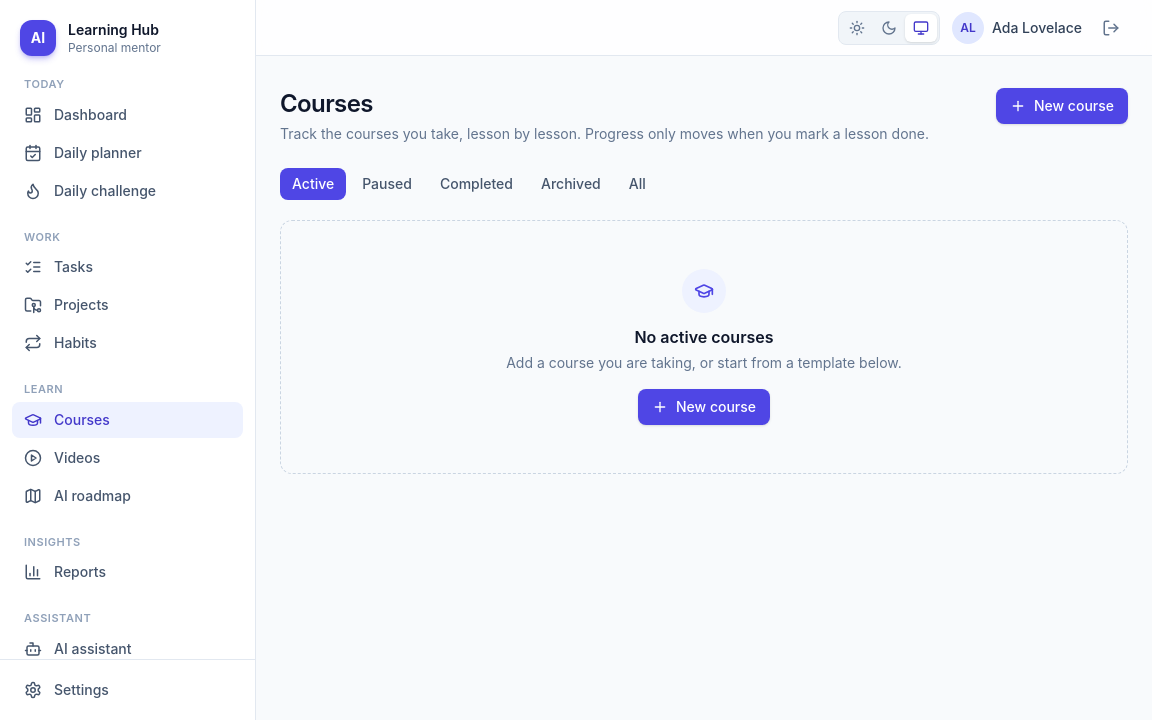
Test case: courses list › says 'No active courses' (not 'No courses yet') when only a completed course exists, and lists it under Completed
The image size is (1152, 720).
Expected: the heading "No active courses" is shown, [634,325,774,349]
Click the tab "Completed" at (476,184), box [428,168,525,200]
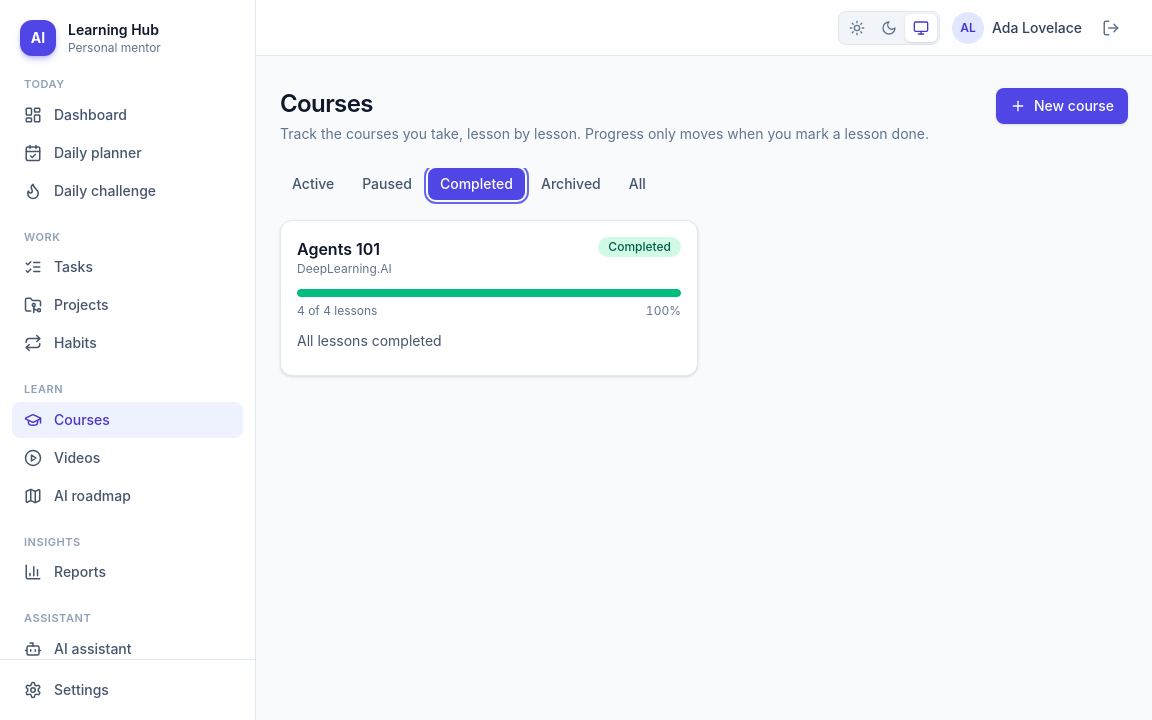
Expected: the heading "Agents 101" is shown, [297,237,392,261]
